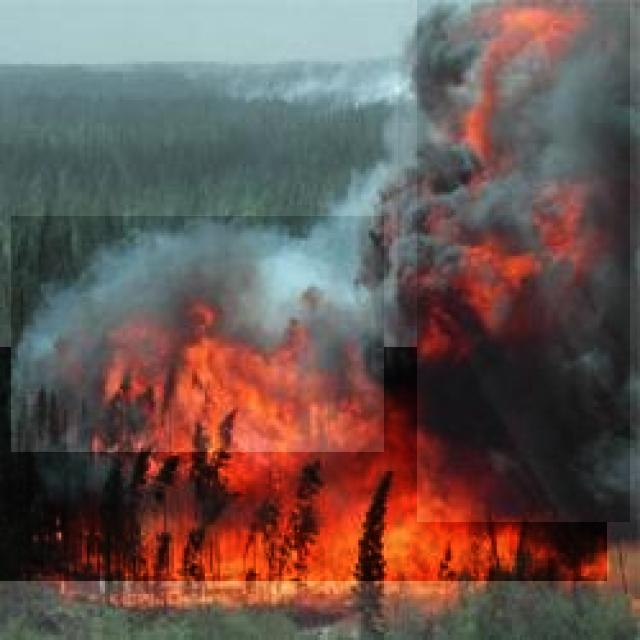Fire: (0, 347, 607, 581), (398, 26, 558, 326)
Smoke: (417, 0, 630, 522), (11, 216, 384, 452)
